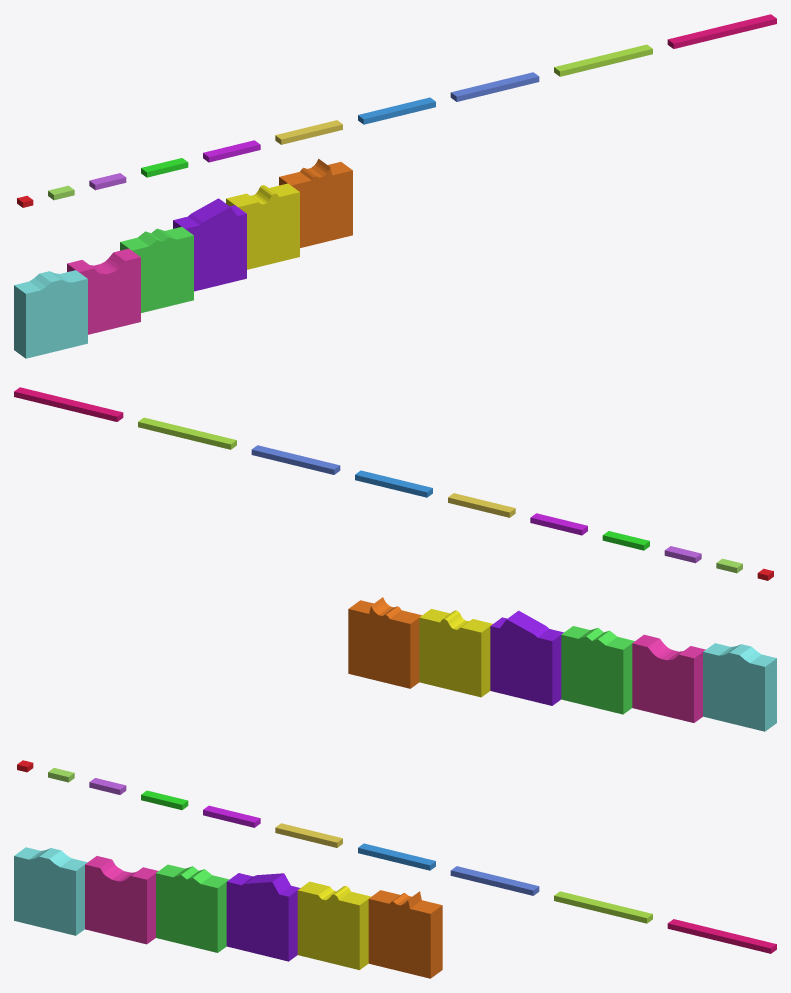
The model's file is PlataformasYTechos.fbx.
3 renders of one model, top to bottom at view 1: azimuth 30°, elevation 25°; view 2: azimuth 150°, elevation 25°; view 3: azimuth 330°, elevation 25°, orthographic.
Parts seen in each view (by area): view 1: Seccion1, Seccion4, Seccion6, Seccion3, Seccion5, Seccion2, Techo10m, Techo9m, Techo8m, Techo7m, Techo6m, Techo5m; view 2: Seccion4, Seccion1, Seccion6, Seccion3, Seccion5, Seccion2, Techo10m, Techo9m, Techo8m, Techo7m, Techo6m, Techo5m; view 3: Seccion6, Seccion4, Seccion1, Seccion5, Seccion3, Seccion2, Techo10m, Techo9m, Techo8m, Techo7m, Techo6m, Techo5m (+2 smaller).
Part boxes in pixels (x1=…): Seccion1: x1=14, y1=270, x2=87, y2=358; Seccion4: x1=173, y1=198, x2=246, y2=291; Seccion6: x1=279, y1=158, x2=352, y2=247; Seccion3: x1=120, y1=227, x2=193, y2=312; Seccion5: x1=226, y1=183, x2=299, y2=269; Seccion2: x1=67, y1=248, x2=140, y2=334; Techo10m: x1=667, y1=14, x2=776, y2=48; Techo9m: x1=554, y1=44, x2=652, y2=76; Techo8m: x1=450, y1=72, x2=539, y2=101; Techo7m: x1=358, y1=97, x2=435, y2=124; Techo6m: x1=275, y1=120, x2=342, y2=144; Techo5m: x1=203, y1=140, x2=260, y2=162; Seccion4: x1=490, y1=610, x2=563, y2=705; Seccion1: x1=703, y1=643, x2=776, y2=731; Seccion6: x1=348, y1=597, x2=421, y2=688; Seccion3: x1=561, y1=626, x2=634, y2=714; Seccion5: x1=419, y1=609, x2=492, y2=697; Seccion2: x1=632, y1=634, x2=705, y2=722; Techo10m: x1=14, y1=387, x2=123, y2=421; Techo9m: x1=138, y1=417, x2=236, y2=449; Techo8m: x1=251, y1=445, x2=340, y2=474; Techo7m: x1=355, y1=470, x2=432, y2=497; Techo6m: x1=448, y1=493, x2=515, y2=517; Techo5m: x1=530, y1=513, x2=587, y2=535; Seccion6: x1=368, y1=890, x2=442, y2=978; Seccion4: x1=226, y1=873, x2=300, y2=961; Seccion1: x1=14, y1=847, x2=87, y2=935; Seccion5: x1=297, y1=881, x2=370, y2=969; Seccion3: x1=156, y1=864, x2=229, y2=952; Seccion2: x1=85, y1=856, x2=158, y2=944; Techo10m: x1=667, y1=919, x2=776, y2=953; Techo9m: x1=554, y1=891, x2=652, y2=923; Techo8m: x1=450, y1=866, x2=539, y2=895; Techo7m: x1=358, y1=843, x2=435, y2=870; Techo6m: x1=275, y1=823, x2=342, y2=847; Techo5m: x1=203, y1=805, x2=260, y2=827.
Size of the model in its own units: 7300 by 1425 by 950.
